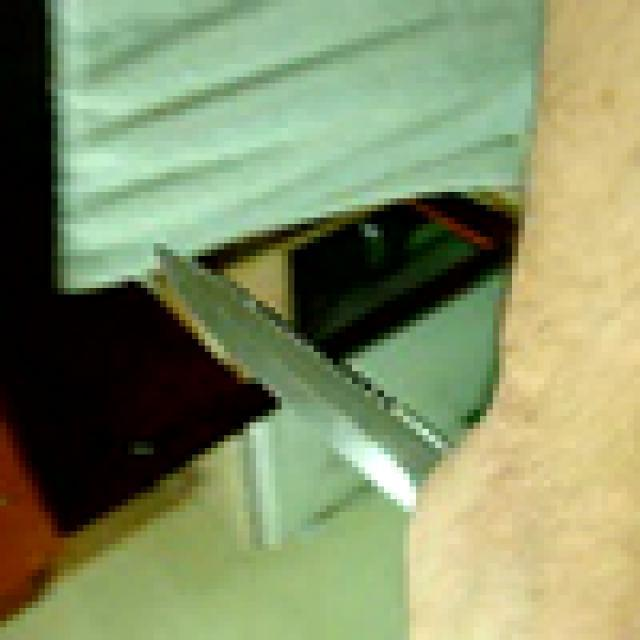knife: (148, 218, 455, 506)
